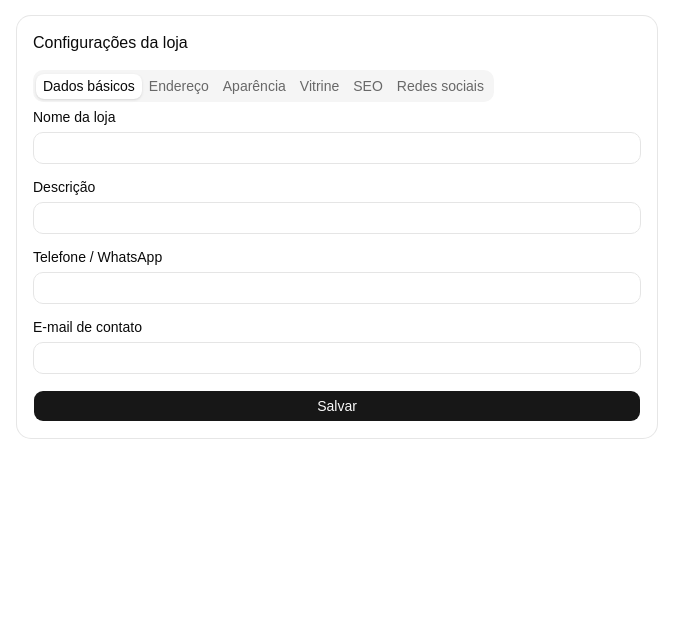
Test: ConfiguracoesPage › sugere o slug automaticamente a partir do nome enquanto ele estiver vazio
The image size is (675, 618).
Type "Auto Center Silva" into the field labelled "Nome da loja" at (337, 148), box [33,132,641,164]
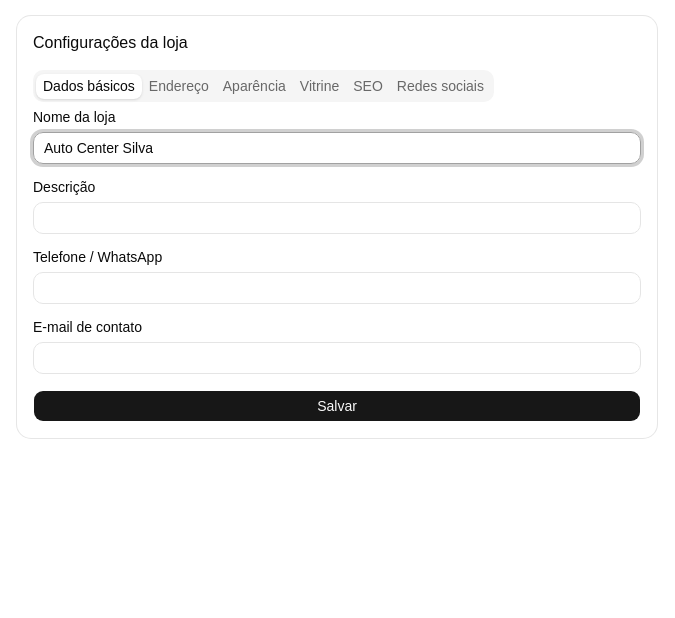
Click the tab "Vitrine" at (320, 86), box [293,74,346,98]
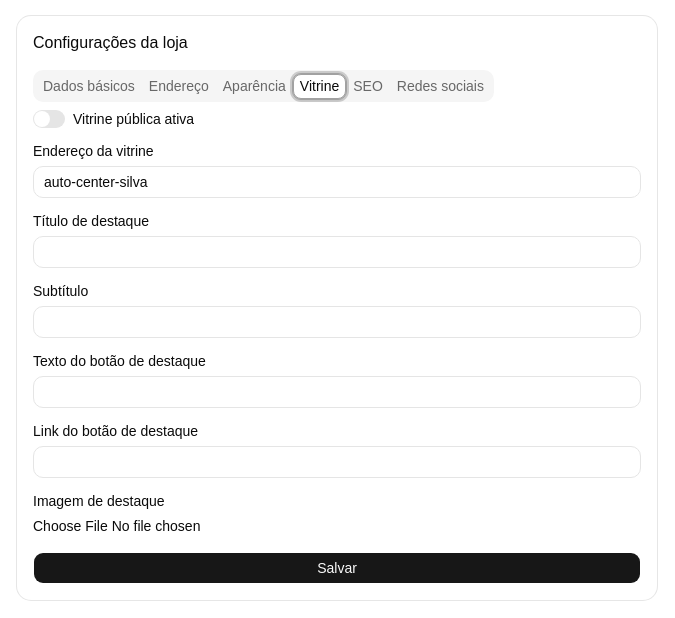
Expected: the field labelled "Endereço da vitrine" holds "auto-center-silva", [33,166,641,198]
